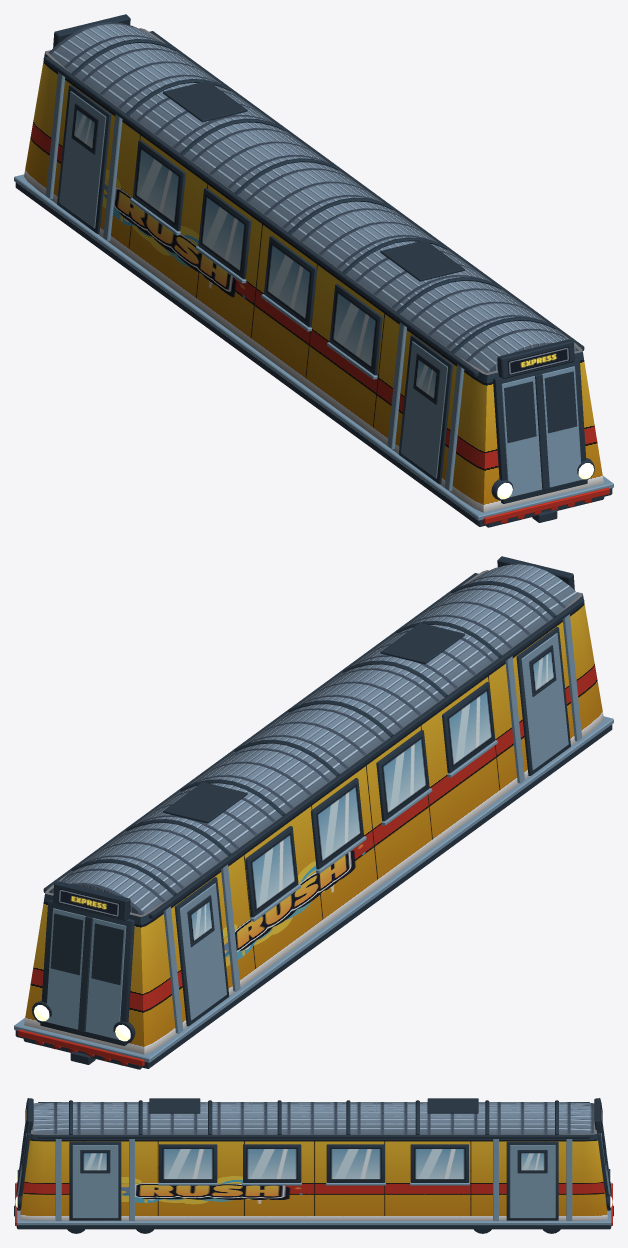
Rendered from vagon_metro.glb.
The picture shows the model from 3 angles, top to bottom: view 1: azimuth 30°, elevation 25°; view 2: azimuth 150°, elevation 25°; view 3: azimuth 270°, elevation 25°; orthographic projection. The views are drawn at different scales.
Parts seen in each view (by area): view 1: Vagon_Metro; view 2: Vagon_Metro; view 3: Vagon_Metro.
Boxes of the visible parts, x1=… form: Vagon_Metro: x1=14, y1=14, x2=613, y2=527; Vagon_Metro: x1=14, y1=556, x2=613, y2=1069; Vagon_Metro: x1=14, y1=1098, x2=613, y2=1233.
Bounding box in the file's own units: 2.28 × 2.88 × 13.58.
8 materials, 4 textured.
